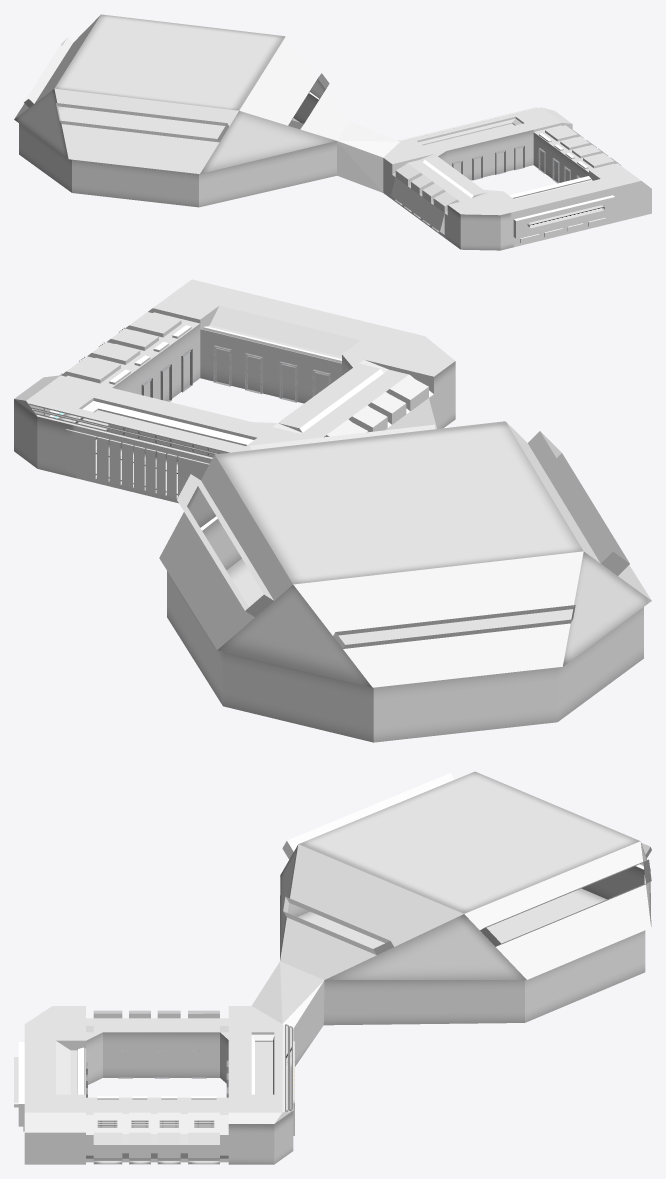
The model's file is zone.glb.
The picture shows the model from 3 angles, top to bottom: view 1: azimuth 30°, elevation 25°; view 2: azimuth 150°, elevation 25°; view 3: azimuth 270°, elevation 25°; orthographic projection. The views are drawn at different scales.
Parts seen in each view (by area): view 1: zone, lights white, doors, spars; view 2: zone, lights white, doors, spars; view 3: zone, spars, lights white.
Boxes of the visible parts, x1=… form: zone: x1=14, y1=14, x2=651, y2=250; lights white: x1=309, y1=92, x2=614, y2=238; doors: x1=452, y1=145, x2=580, y2=183; spars: x1=533, y1=122, x2=617, y2=172; zone: x1=14, y1=279, x2=651, y2=742; lights white: x1=94, y1=325, x2=383, y2=530; doors: x1=123, y1=345, x2=330, y2=459; spars: x1=43, y1=308, x2=200, y2=416; zone: x1=14, y1=771, x2=651, y2=1164; spars: x1=86, y1=1097, x2=228, y2=1162; lights white: x1=18, y1=864, x2=645, y2=1103.
Size of the model in its own units: 55.46 by 12 by 54.11.
6 materials, 2 textured.
